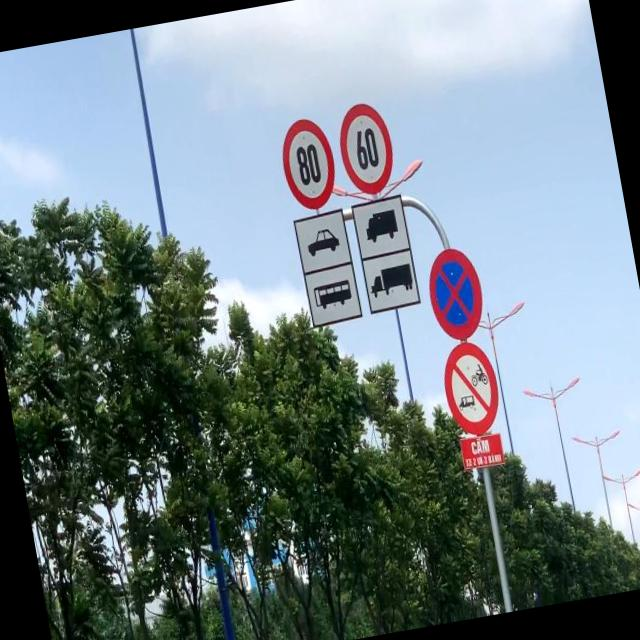P-104: (438, 336, 504, 438)
P-127: (278, 111, 340, 213), (333, 100, 398, 195)
P-130: (423, 243, 488, 346)
